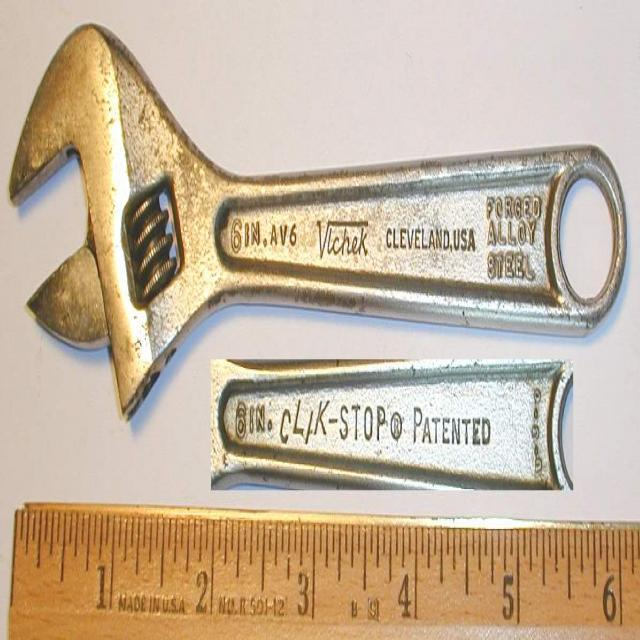wrench: (6, 14, 630, 428)
